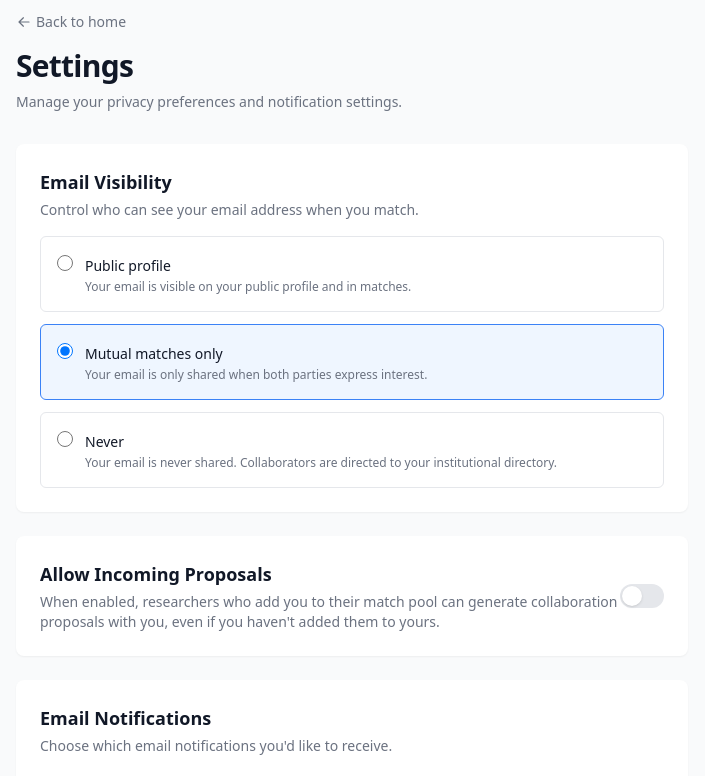
Test case: Settings page › marks form dirty when changing email visibility
Expected: the heading "Email Visibility" is shown, [40, 170, 172, 194]
Click the 3rd radio button: point(65, 439) [57, 431, 73, 447]
(page scrolled)
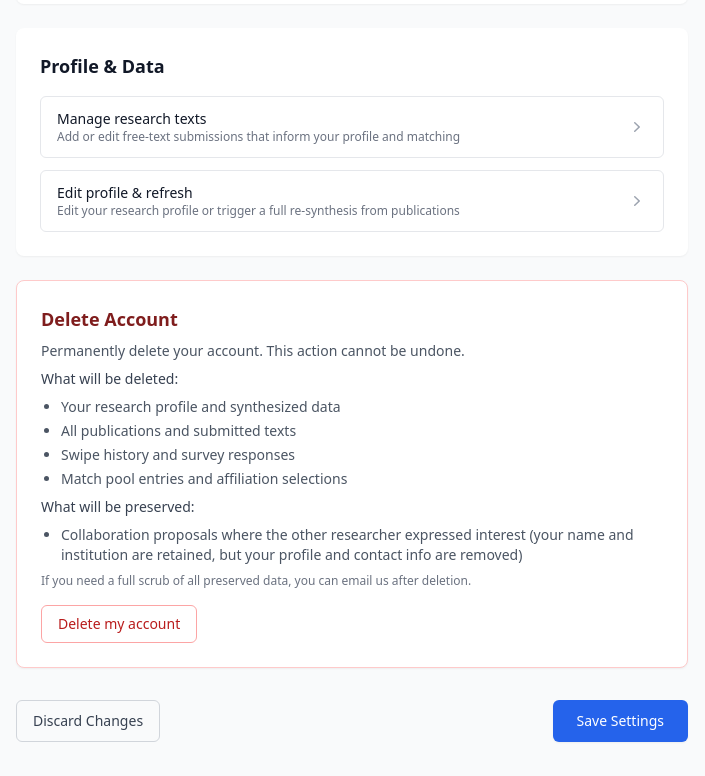
Now the button "Save Settings" is enabled, box [552, 700, 688, 742]
